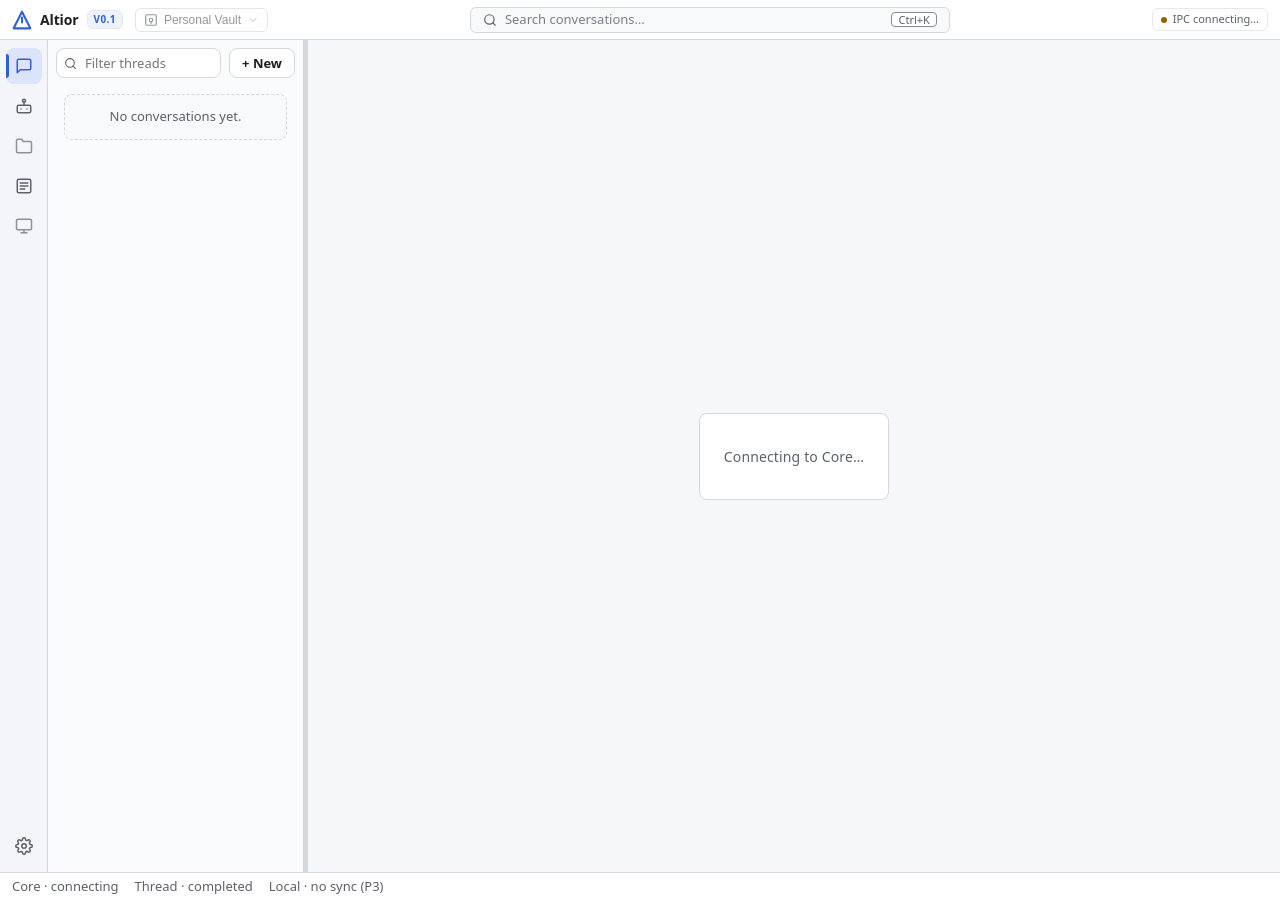
Test: P2.4 Context & Memory Product Wiring Evidence (TASKS.md §A14) › 1. ActivityRail activates Memory Vault navigation item
Note: Click memory rail item
Click the button with test id "rail-memory": (24, 186) top-left (6, 168), bottom-right (42, 204)
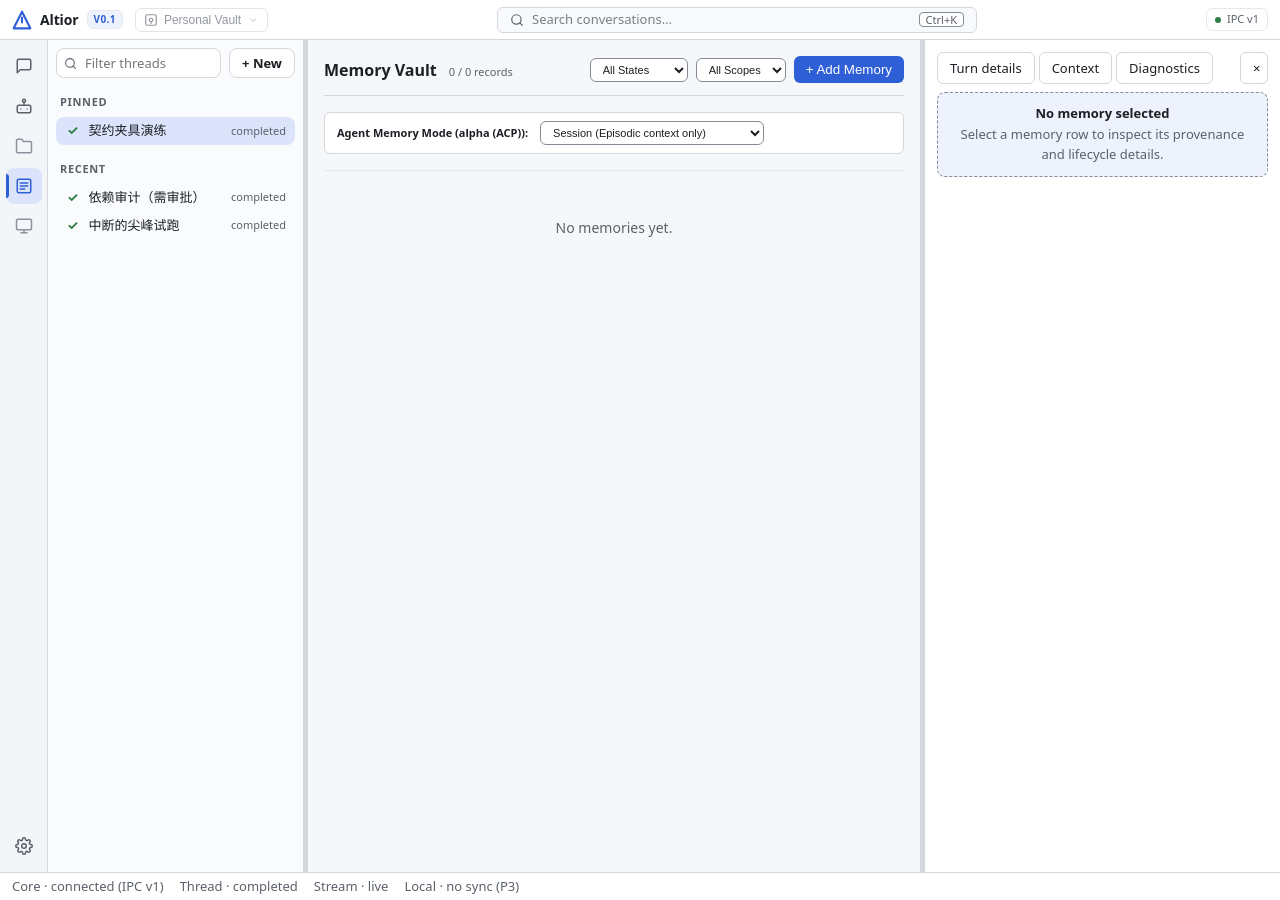
Expected: the element with test id "memory-pane" is shown, top-left (308, 40), bottom-right (920, 872)
